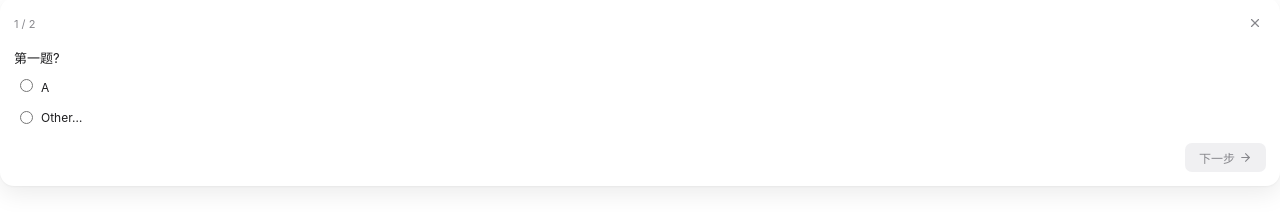
Test: AnswerPanel › 多步向导 › 两题：第一步显示「下一步」，答完推进到第二步显示「提交」
Check: the text "1 / 2" is shown, box [14,16,35,33]
Check: the button "下一步" is shown, box [1185,142,1266,172]
Click the text "A": [45, 88] box [41,78,49,96]
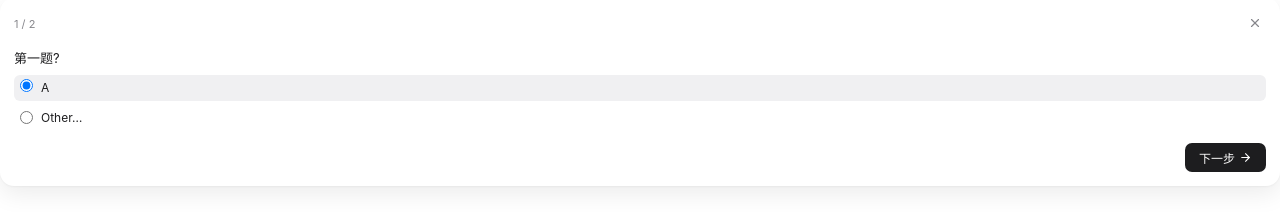
Click the button "下一步": [1226, 157] box [1185,142,1266,172]
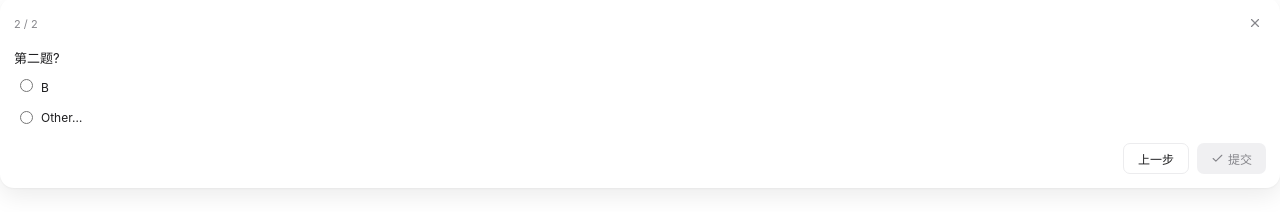
Check: the text "2 / 2" is shown, box [14,16,38,33]
Check: the button "上一步" is shown, box [1123,142,1189,174]
Check: the button "提交" is shown, box [1197,142,1266,174]
